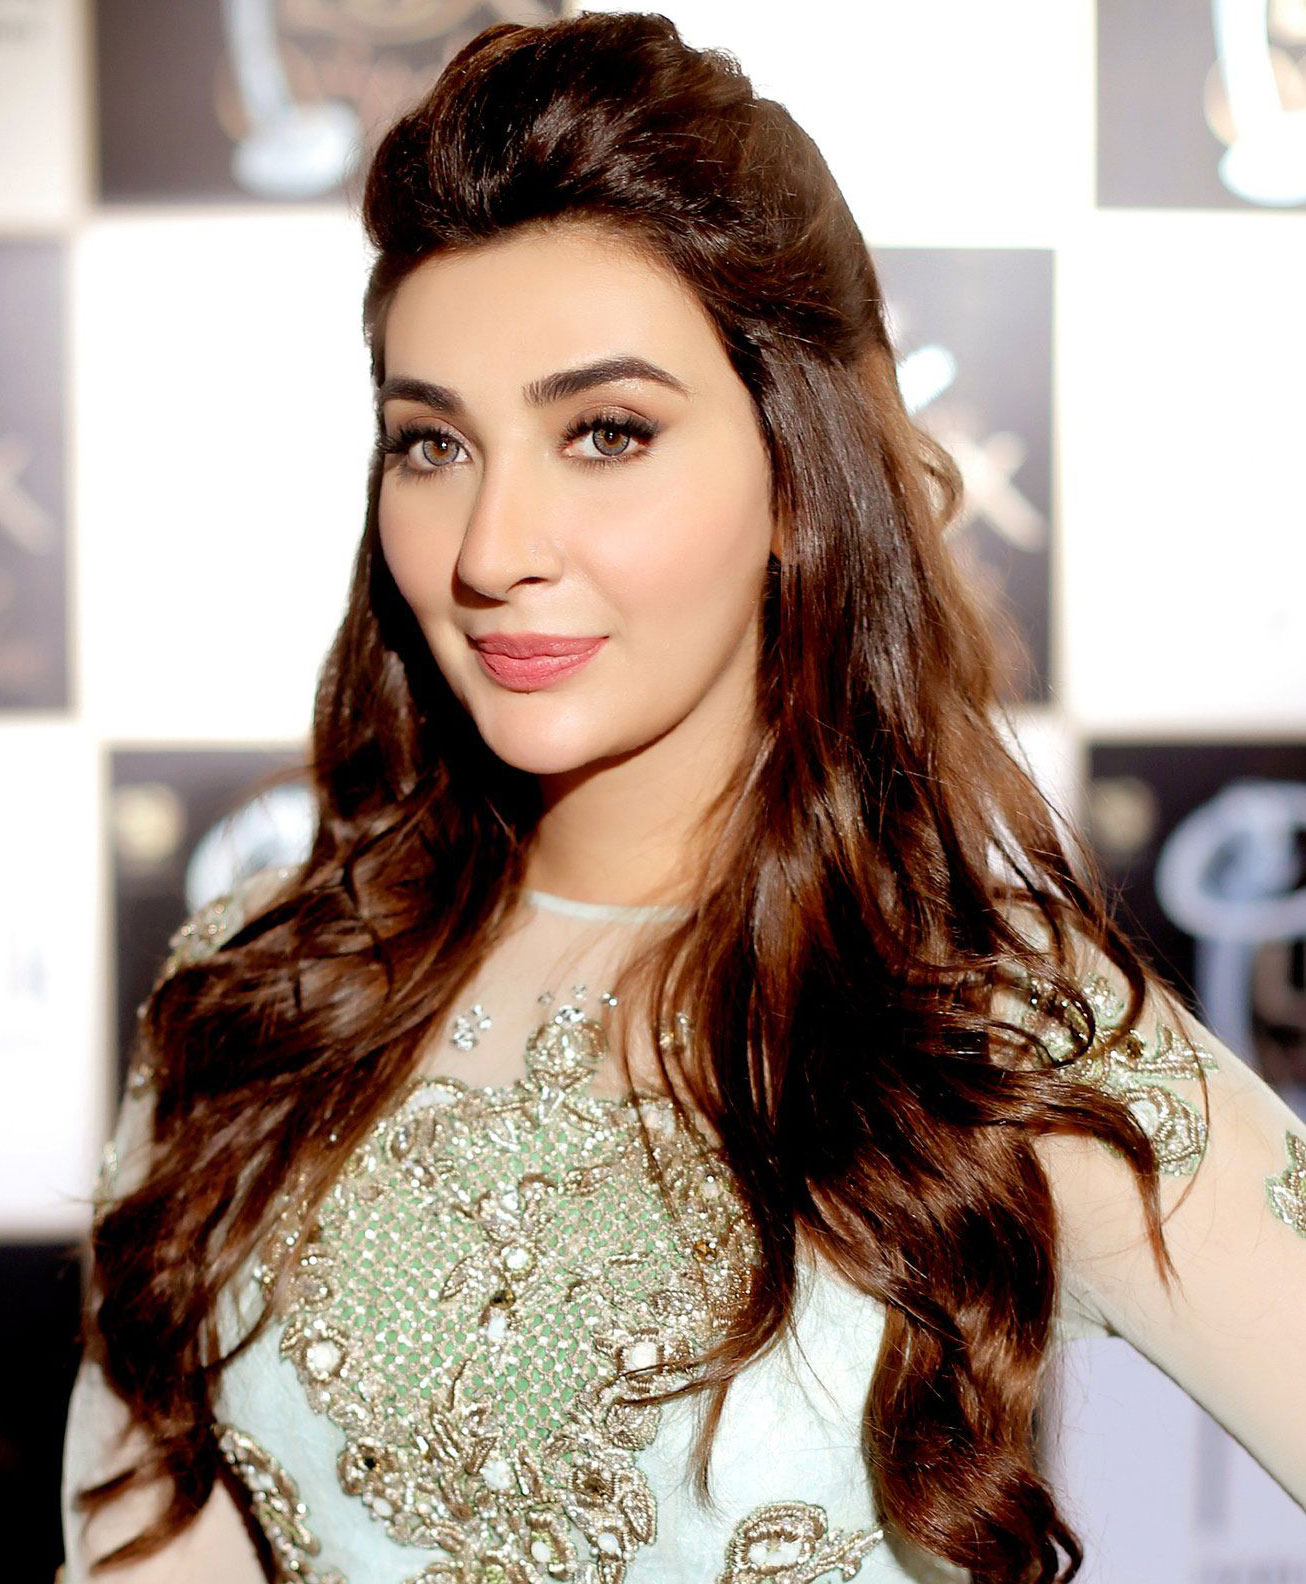NoMask: (384, 340, 711, 760)
